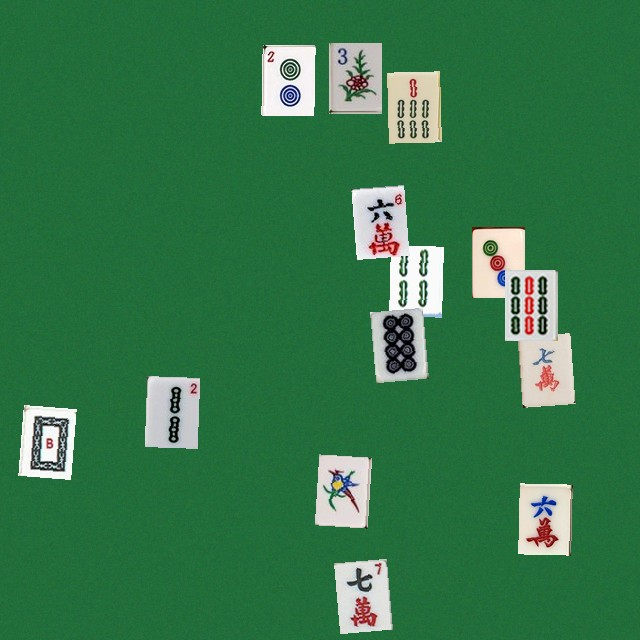tile: (334, 558, 387, 629), (387, 71, 440, 142), (328, 42, 381, 113), (389, 245, 442, 316), (351, 185, 404, 256), (517, 333, 570, 404), (471, 226, 524, 297), (144, 376, 197, 447), (504, 269, 557, 340), (261, 44, 314, 115), (18, 405, 71, 476), (314, 454, 367, 525), (518, 483, 571, 554), (370, 307, 423, 378)
